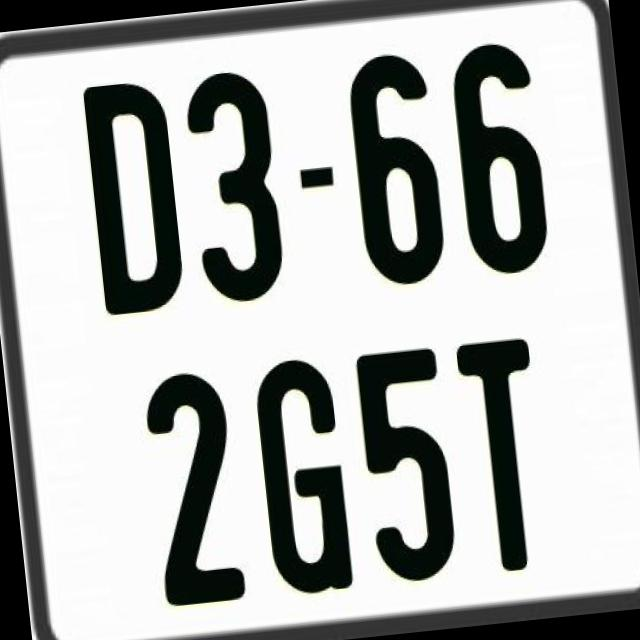2: (140, 364, 246, 611)
3: (182, 63, 292, 305)
5: (352, 346, 461, 592)
6: (341, 46, 452, 290), (446, 36, 554, 278)
D: (80, 74, 192, 314)
G: (250, 350, 355, 596)
T: (451, 334, 553, 578)
